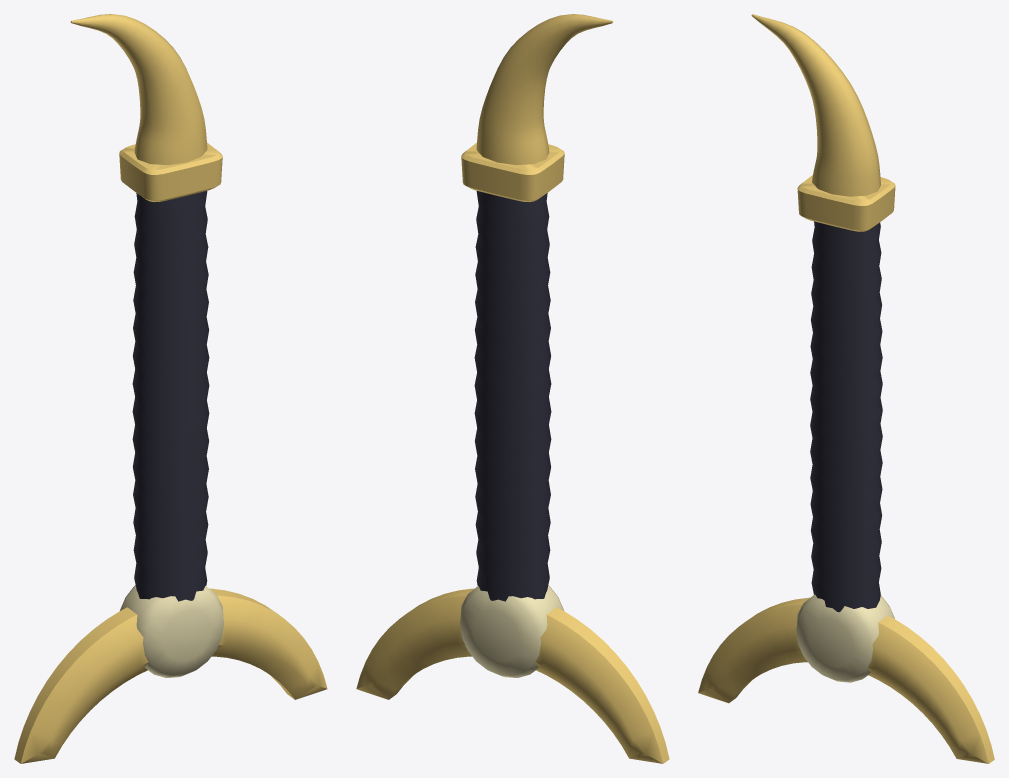
Rendered from CrescentFangHiltGame.fbx.
The picture shows the model from 3 angles, left to right: view 1: azimuth 30°, elevation 25°; view 2: azimuth 150°, elevation 25°; view 3: azimuth 330°, elevation 25°; orthographic projection. The views are drawn at different scales.
Visible parts, largest first — view 1: Grip, Guard, Pommel, Gem; view 2: Grip, Guard, Pommel, Gem; view 3: Grip, Guard, Pommel, Gem.
Part boxes in pixels (x1,y1,x2,y2): Grip: [132, 191, 209, 601]; Guard: [14, 588, 327, 763]; Pommel: [70, 14, 222, 202]; Gem: [120, 585, 223, 677]; Grip: [474, 191, 551, 601]; Guard: [356, 588, 669, 763]; Pommel: [461, 14, 613, 202]; Gem: [460, 585, 563, 677]; Grip: [810, 221, 882, 612]; Guard: [698, 597, 994, 763]; Pommel: [751, 14, 895, 231]; Gem: [796, 594, 894, 682].
Size of the model in its own units: 0.5848 by 1.33 by 0.1196.
